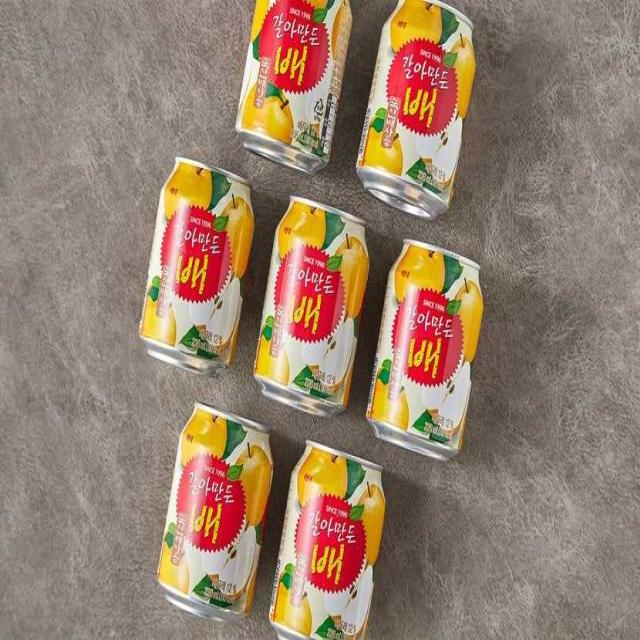can: (363, 235, 484, 463), (137, 150, 256, 376), (253, 194, 371, 418), (157, 402, 272, 622), (357, 0, 473, 217), (269, 440, 386, 640), (237, 1, 356, 174)
